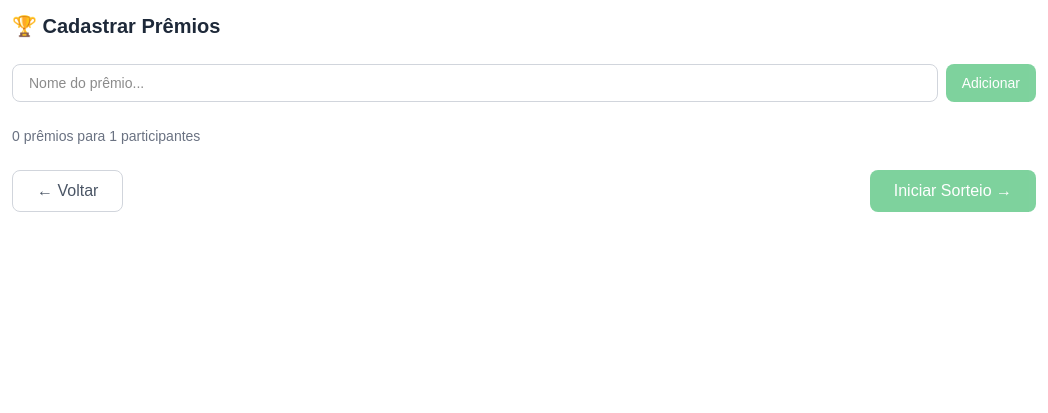
Test: StepPrizes › warns when more prizes than participants
In the field with placeholder "Nome do prêmio...": (475, 83) [12,64,938,102], type "Prize 1"
Then press Enter
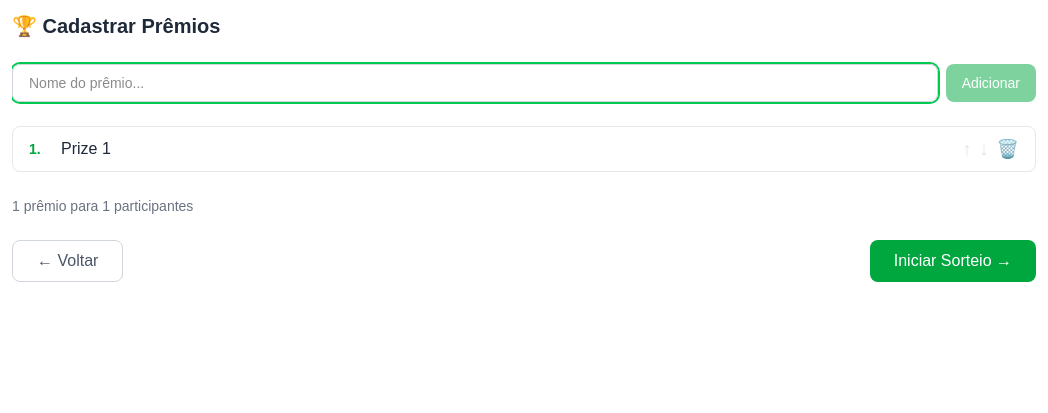
In the field with placeholder "Nome do prêmio...": (475, 83) [12,64,938,102], type "Prize 2"
Then press Enter
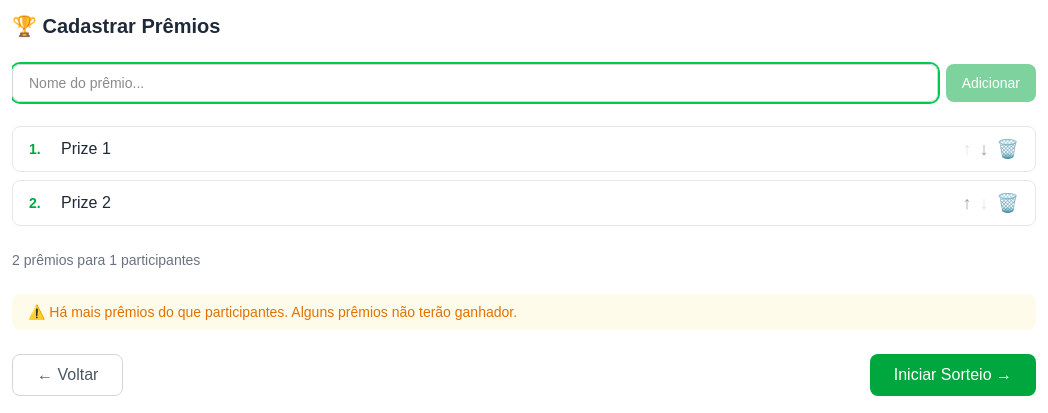
Expected: the text "mais prêmios do que participantes" is shown, [28,304,517,320]
